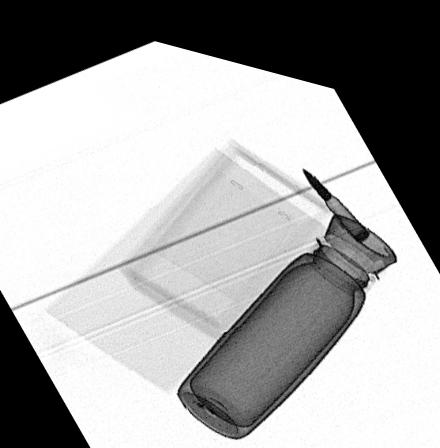Bullet: (299, 149, 367, 223)
